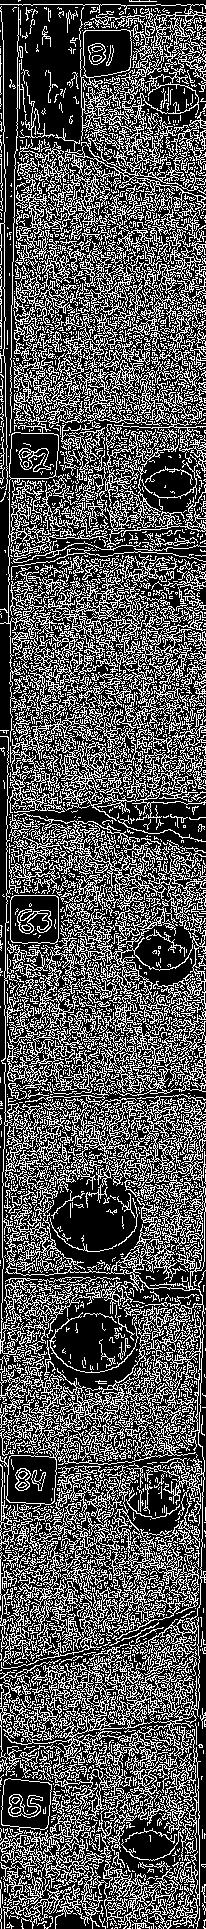hplug: (112, 1808, 190, 1883), (132, 55, 206, 133), (118, 1466, 196, 1539), (128, 917, 204, 989), (134, 445, 206, 517)
scal: (42, 1293, 144, 1399), (44, 1172, 146, 1270)
vplug: (30, 1763, 112, 1925), (38, 415, 113, 549)
